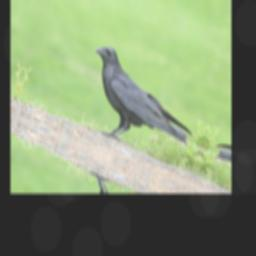Crow: (73, 40, 207, 170)
